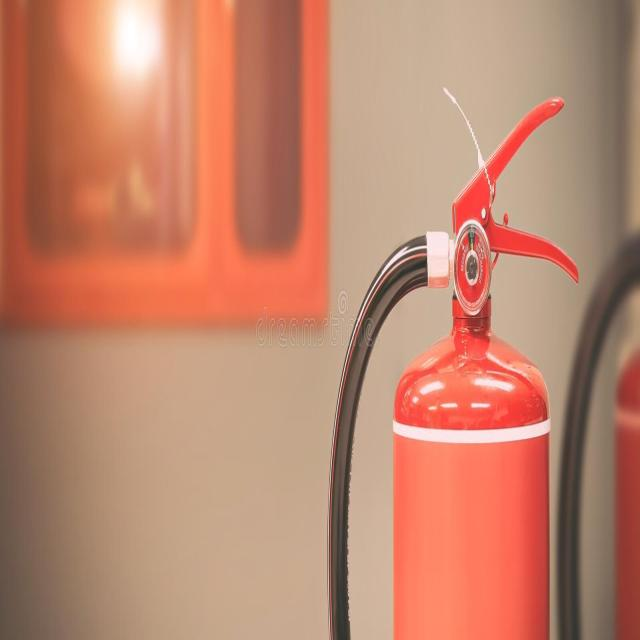fire_extinguisher: (321, 90, 581, 639)
